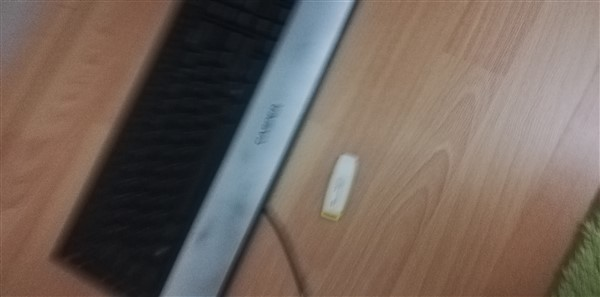flash disk: (316, 153, 361, 228)
klavye: (60, 1, 317, 285)
